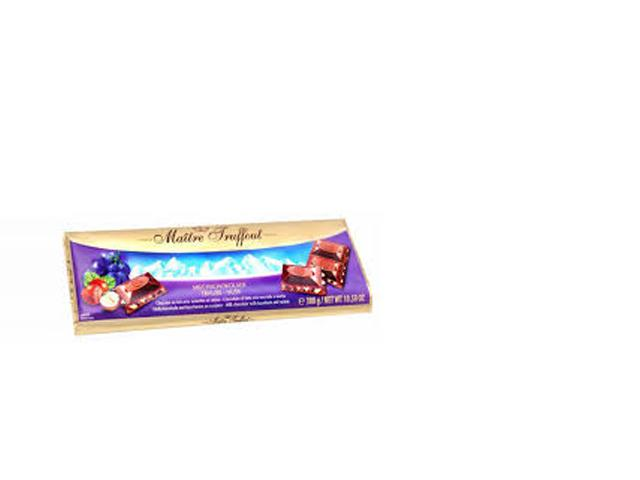chocolate: (62, 230, 386, 335)
